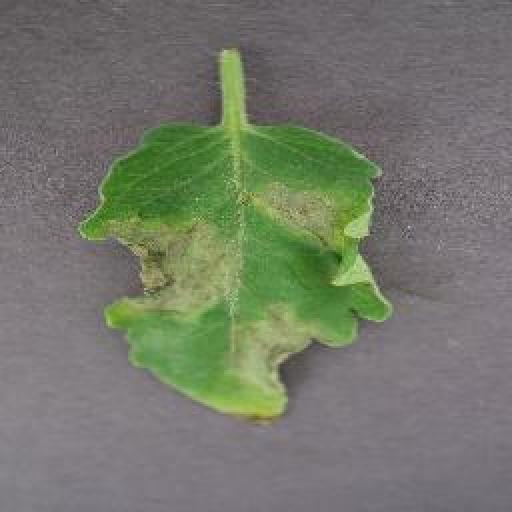Late Blight: (78, 120, 390, 423)
